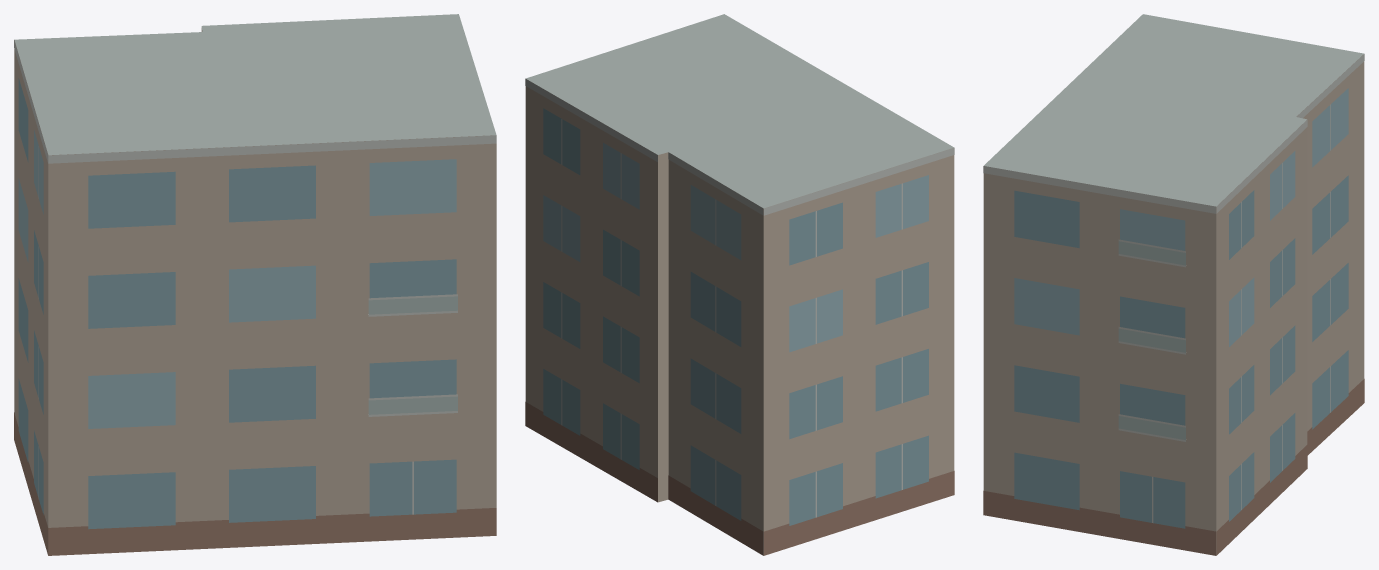
The model's file is survey-upis-32565606.glb.
3 renders of one model, left to right at view 1: azimuth 30°, elevation 25°; view 2: azimuth 150°, elevation 25°; view 3: azimuth 270°, elevation 25°, orthographic. The views are drawn at different scales.
Parts seen in each view (by area): view 1: survey-upis-32565606.tmp; view 2: survey-upis-32565606.tmp; view 3: survey-upis-32565606.tmp.
Part boxes in pixels (x1,y1,x2,y2): survey-upis-32565606.tmp: (14,14,496,555); survey-upis-32565606.tmp: (525,14,954,555); survey-upis-32565606.tmp: (983,14,1364,555).
Bounding box in the file's own units: 13.73 × 11.6 × 11.48.
